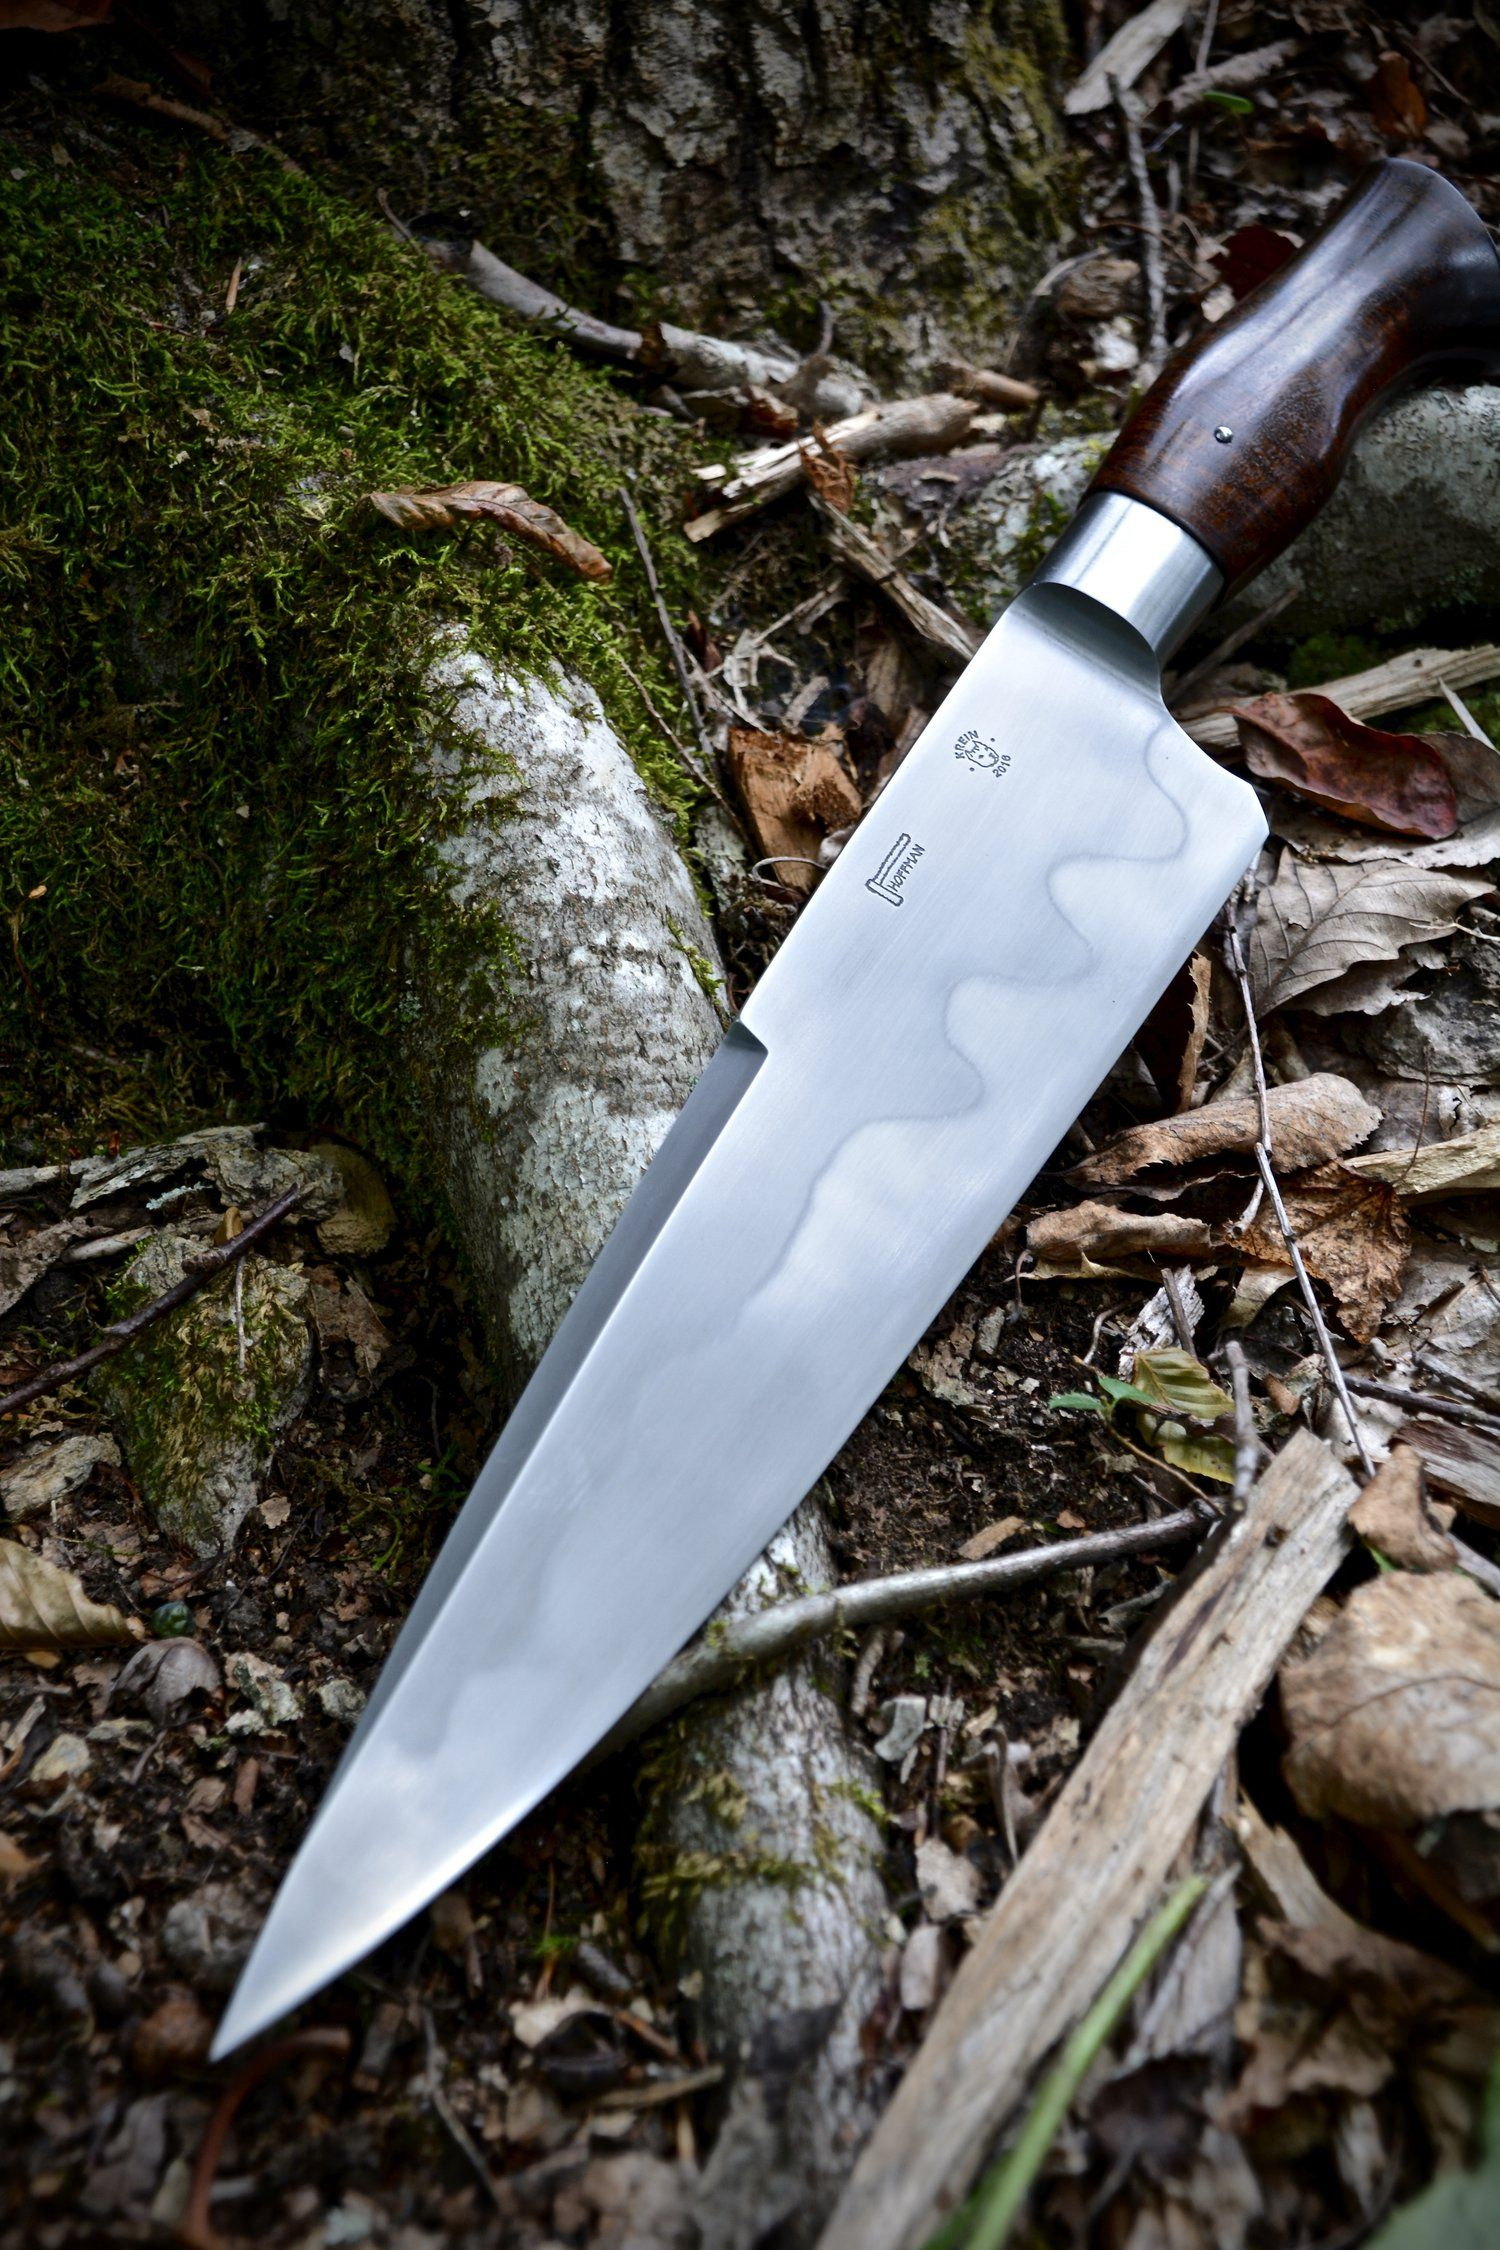knife: (182, 131, 1495, 2073)
